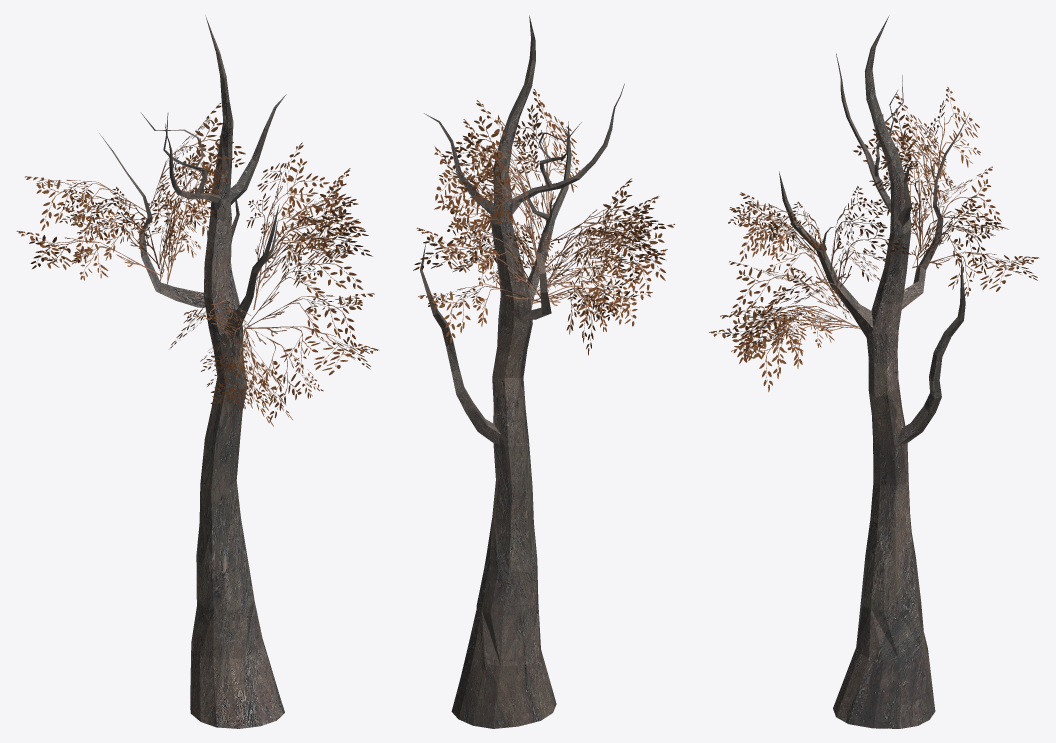
File: House67.fbx
3 views of the same model, side by side, from view 1: azimuth 30°, elevation 25°; view 2: azimuth 150°, elevation 25°; view 3: azimuth 270°, elevation 25° (orthographic). The views are drawn at different scales.
Parts seen in each view (by area): view 1: AT_BGAgo_TrN03_11B.mo; view 2: AT_BGAgo_TrN03_11B.mo; view 3: AT_BGAgo_TrN03_11B.mo.
Boxes of the visible parts, x1,y1,x2,y2 form: AT_BGAgo_TrN03_11B.mo: [16, 15, 379, 728]; AT_BGAgo_TrN03_11B.mo: [413, 15, 674, 728]; AT_BGAgo_TrN03_11B.mo: [709, 15, 1038, 728].
Size of the model in its own units: 981 by 2333 by 1041.
